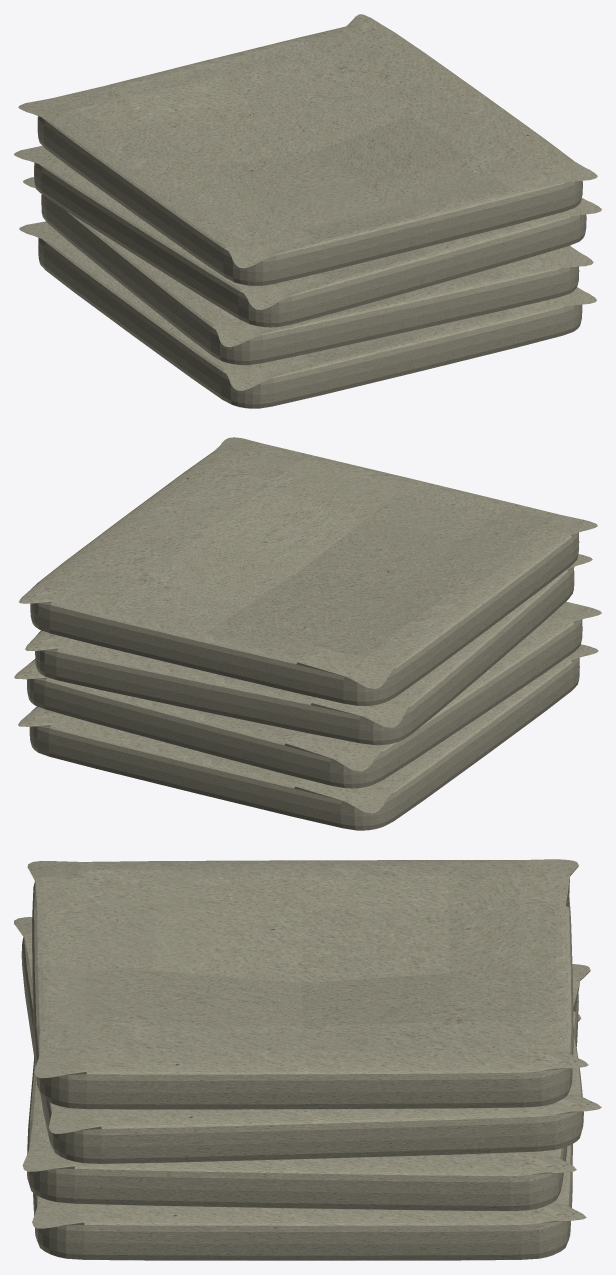
Rendered from Tumpukan Baju.fbx.
The picture shows the model from 3 angles, top to bottom: view 1: azimuth 30°, elevation 25°; view 2: azimuth 150°, elevation 25°; view 3: azimuth 270°, elevation 25°; orthographic projection. The views are drawn at different scales.
Visible parts, largest first — view 1: Baju.004; view 2: Baju.004; view 3: Baju.004.
Boxes of the visible parts, x1=… form: Baju.004: x1=14, y1=14, x2=601, y2=408; Baju.004: x1=14, y1=437, x2=601, y2=830; Baju.004: x1=14, y1=859, x2=601, y2=1260.
Size of the model in its own units: 94.59 by 37.03 by 102.
